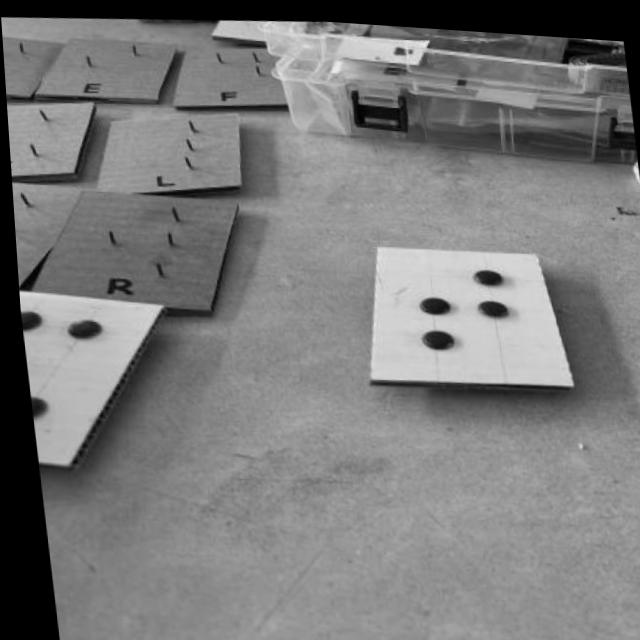braiile: (367, 241, 564, 376)
